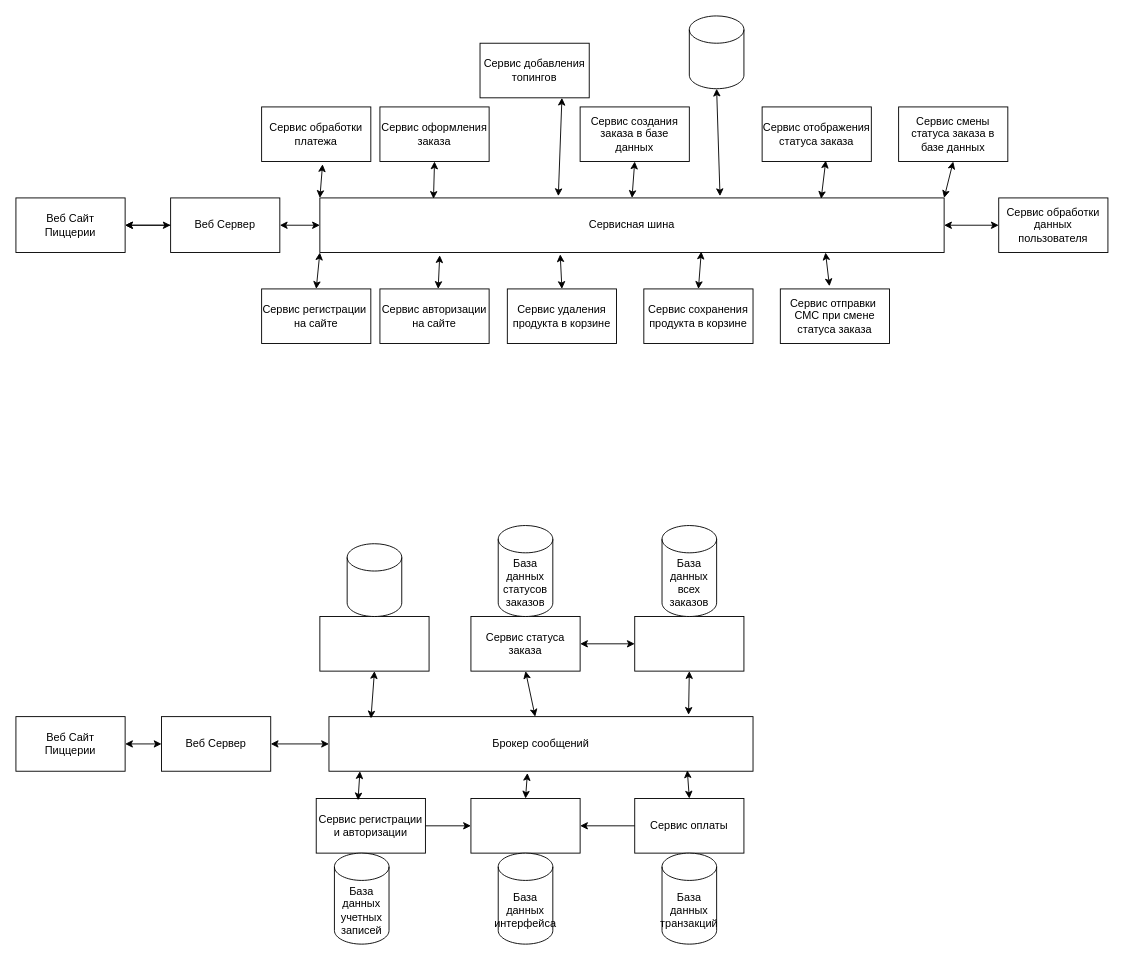
Image size: 1124x960. Some labels were removed from this diagram. The shapes that lost their labels are listed below. From the top down, each one's centre as x and y in pixels, then its label:
At [716,52]: "База данных".
At [374,580]: "База данных заказов".
At [374,643]: "Сервис корзины".
At [689,643]: "Сервис заказа в базе данных".
At [525,825]: "Сервис отображения интерфейса веб сайта".
